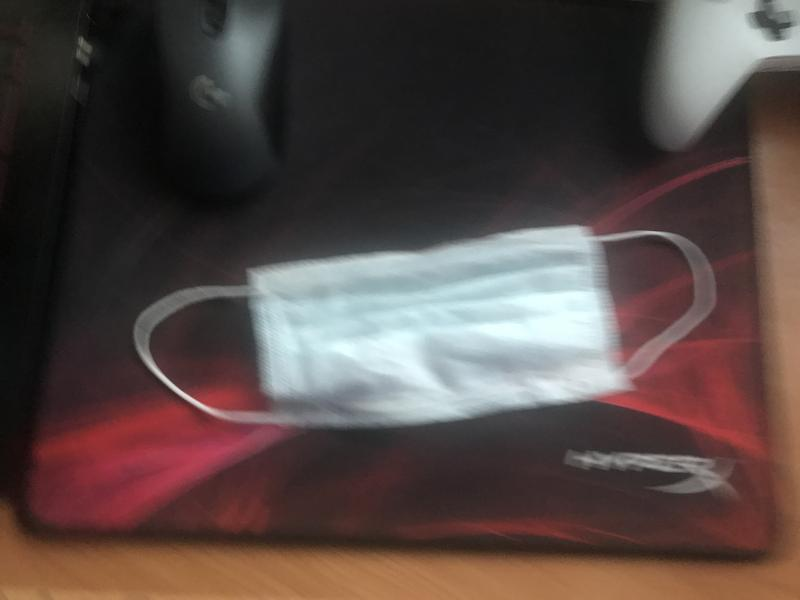medical_mask: (135, 228, 711, 425)
